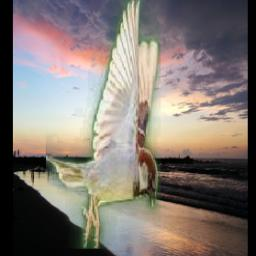Sparrow: (45, 0, 160, 250)
